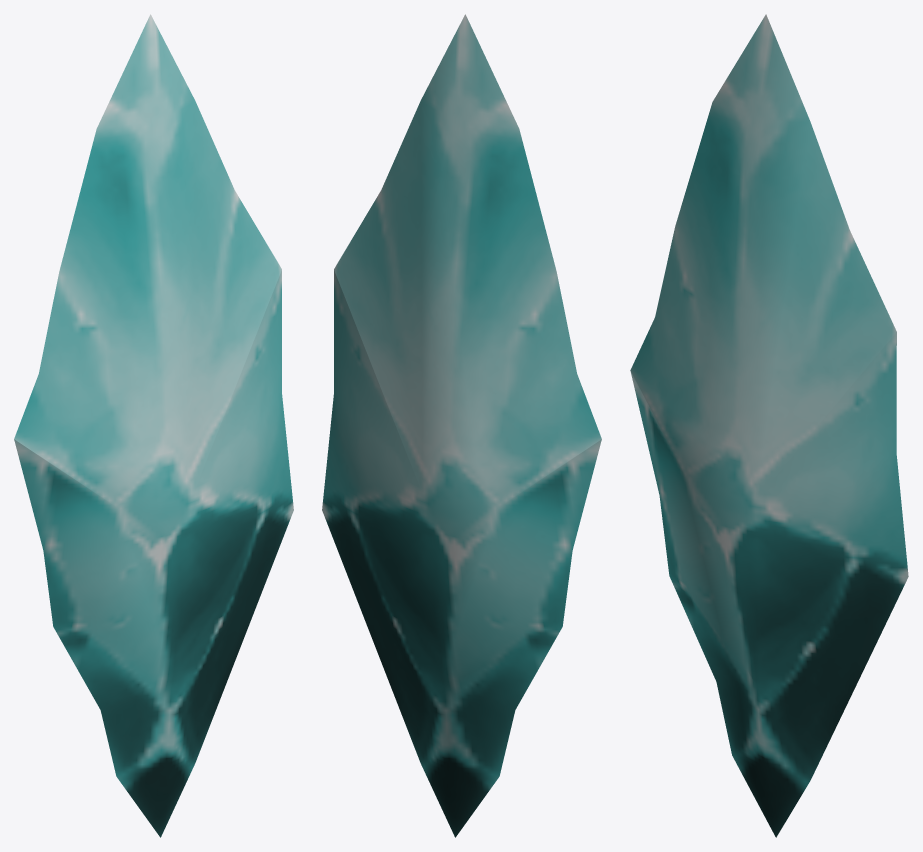
File: Turq_C.fbx
3 renders of one model, left to right at view 1: azimuth 30°, elevation 25°; view 2: azimuth 150°, elevation 25°; view 3: azimuth 330°, elevation 25°, orthographic.
Visible parts, largest first — view 1: Turq_C; view 2: Turq_C; view 3: Turq_C.
Boxes of the visible parts, bbox=[...] form: Turq_C: bbox=[14, 14, 293, 837]; Turq_C: bbox=[322, 14, 601, 837]; Turq_C: bbox=[630, 14, 908, 837].
Bounding box in the file's own units: 6.74 × 19.03 × 2.18.
Materials: 1 (1 with a texture image).
